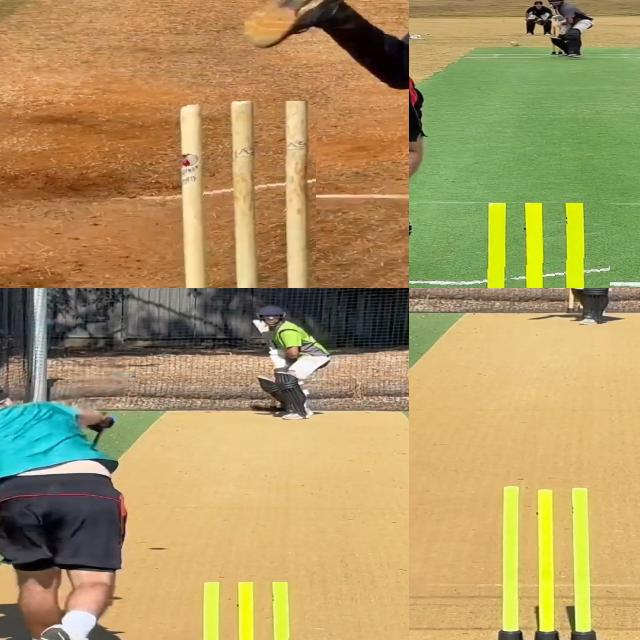Cricket ball: (508, 37, 526, 49)
Stumps: (173, 101, 316, 288), (470, 203, 611, 288), (183, 581, 310, 640)
